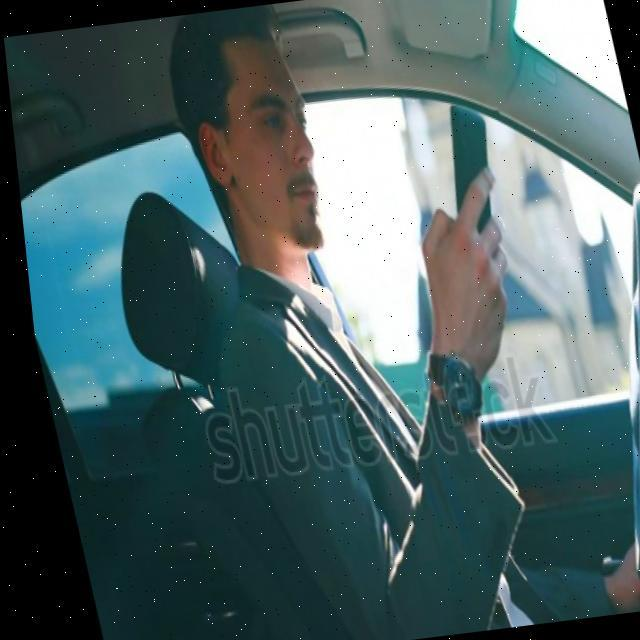PhoneCall: (430, 100, 508, 259)
